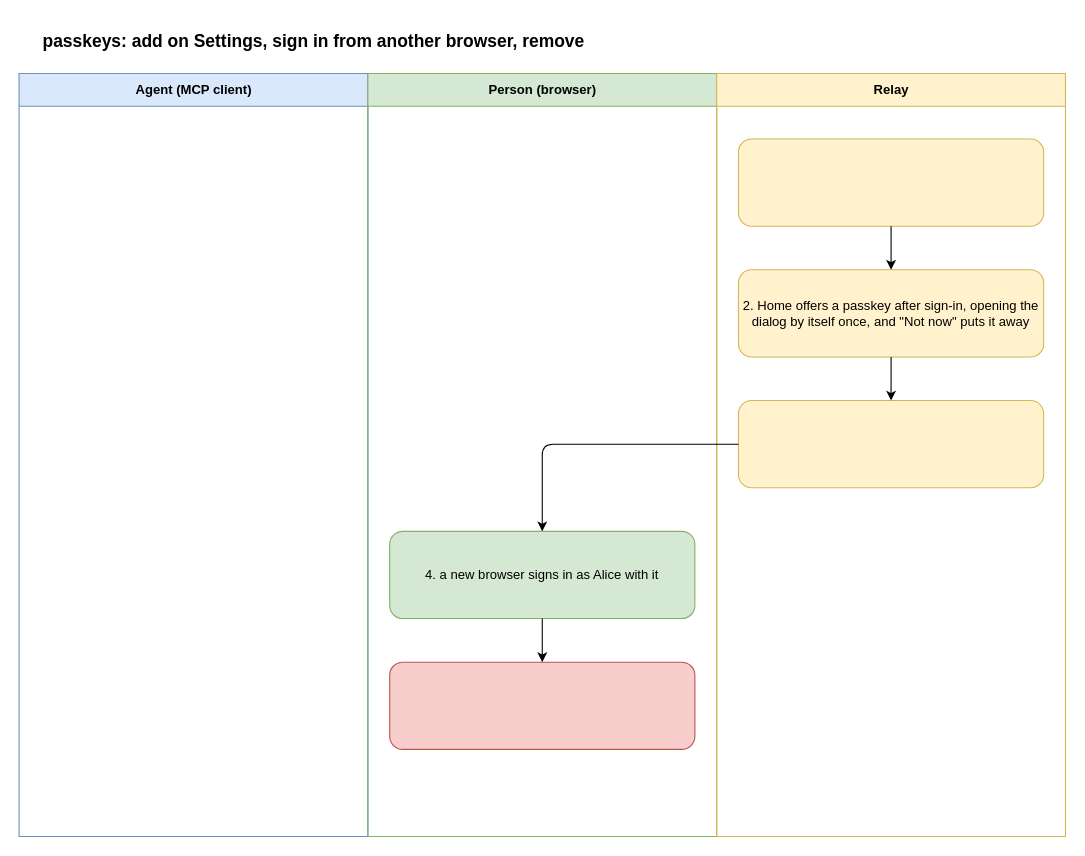
Image size: 1085x856. Some labels were removed from this diagram. Each missing label, with the centre of its shape:
"1. serves the passkey script same-origin, as JavaScript" goes at [890,182].
"3. Alice adds a passkey on Settings" goes at [890,443].
"5. Alice removes it, and it no longer signs in" goes at [542,705].
